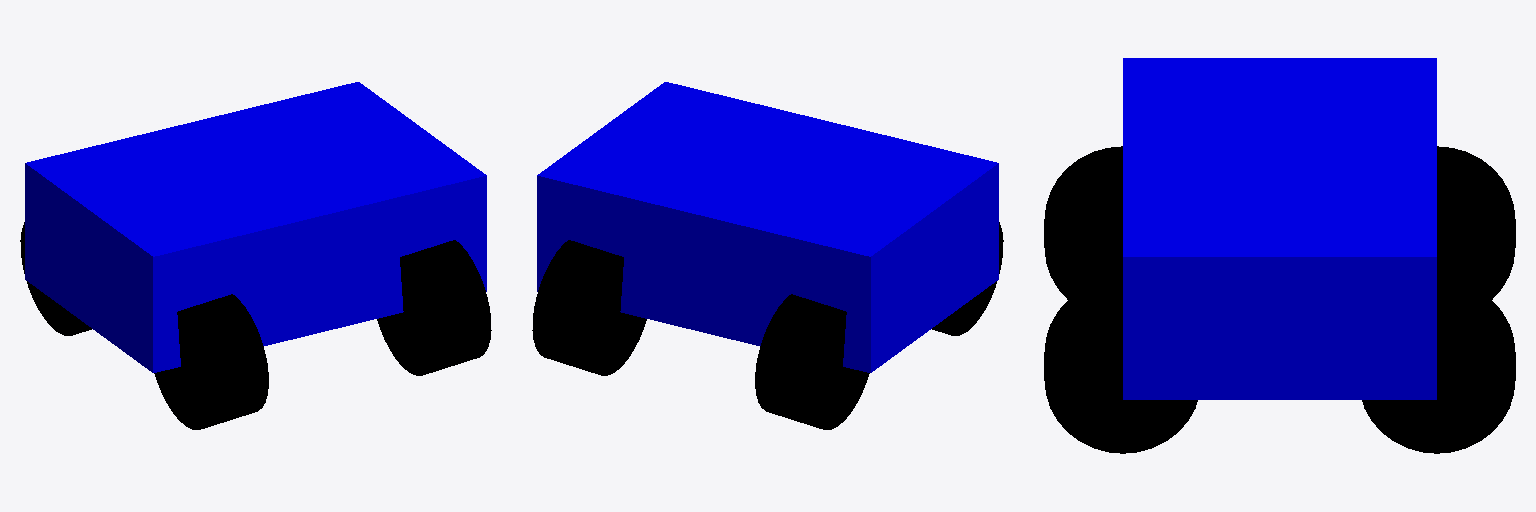
robot.urdf — little_car:
<?xml version="1.0"?>
	<robot name="little_car">
		<link name="base_link">	
			<inertial>
				<origin xyz="0 0 0.05" rpy="0 0 0"/>   
           			<mass value="10"/>                 
            			<inertia ixx="0" ixy="0" ixz="0" iyy="0" iyz="0" izz="0" />  
        		</inertial>

			<visual>
				<geometry>
					<box size="0.3 0.2 0.1"/>
				</geometry>
				<origin xyz="0 0 0.05" rpy="0 0 0"/>
				<material name="blue">
					<color rgba="0 0 1 1"/>
				</material>
			</visual>
			<collision>
				<geometry>
		  		  <box size="0.21 0.3 0.11"/>
				</geometry>
	    		</collision>
		</link>
		
		<link name="wheel_1">	
			<inertial>
				<origin xyz="0 0 0.05" rpy="0 0 0"/>   
           			<mass value="10"/>                 
            			<inertia ixx="0" ixy="0" ixz="0" iyy="0" iyz="0" izz="0" />  
        		</inertial>			
			<visual>
				<geometry>
					<cylinder length="0.05" radius="0.05"/>
				</geometry>
				<origin rpy="0 1.5 0" xyz="0.1 0.1 0"/> 
				<material name="black">
					<color rgba="0 0 0 1"/>
				</material>
			</visual>
	    		<collision>
				<geometry>
		    			<box size="0.21 0.3 0.11"/>
				</geometry>
	    		</collision>
		</link>
		
		<link name="wheel_2">
			<inertial>
				<origin xyz="0 0 0.05" rpy="0 0 0"/>   
           			<mass value="10"/>                 
            			<inertia ixx="0" ixy="0" ixz="0" iyy="0" iyz="0" izz="0" />  
        		</inertial>
	
			<visual>
				<geometry>
					<cylinder length="0.05" radius="0.05"/>
				</geometry>
				<origin rpy="0 1.5 0" xyz="-0.1 0.1 0"/>
				<material name="black">
					<color rgba="0 0 0 1"/>
				</material>
			</visual>
	    		<collision>
				<geometry>
		    			<box size="0.21 0.3 0.11"/>
				</geometry>
	    		</collision>
		</link>
		
		<link name="wheel_3">	
			<inertial>
				<origin xyz="0 0 0.05" rpy="0 0 0"/>   
           			<mass value="10"/>                 
            			<inertia ixx="0" ixy="0" ixz="0" iyy="0" iyz="0" izz="0" />  
        		</inertial>	
			<visual>
				<geometry>
					<cylinder length="0.05" radius="0.05"/>
				</geometry>
				<origin rpy="0 1.5 0" xyz="0.1 -0.1 0"/>
				<material name="black">
					<color rgba="0 0 0 1"/>
				</material>
			</visual>
	    		<collision>
				<geometry>
		    			<box size="0.21 0.3 0.11"/>
				</geometry>
	    		</collision>
		</link>
		
		<link name="wheel_4">
			<inertial>
				<origin xyz="0 0 0.05" rpy="0 0 0"/>   
           			<mass value="10"/>                 
            			<inertia ixx="0" ixy="0" ixz="0" iyy="0" iyz="0" izz="0" />  
        		</inertial>
			<visual>
				<geometry>
					<cylinder length="0.05" radius="0.05"/>
				</geometry>
				<origin rpy="0 1.5 0" xyz="-0.1 -0.1 0"/>
				<material name="black">
					<color rgba="0 0 0 1"/>
				</material>
			</visual>
	    		<collision>
				<geometry>
		    			<box size="0.21 0.3 0.11"/>
				</geometry>
	    		</collision>
		</link>
		<joint name="base_to_wheel1" type="continuous">
			<parent link="base_link"/>
			<child link="wheel_1"/>
			<joint_properties damping="20.0" friction="20.0"/>
		</joint>
		
		<joint name="base_to_wheel2" type="continuous">
			<parent link="base_link"/>
			<child link="wheel_2"/>
			<joint_properties damping="20.0" friction="20.0"/>
		</joint>
		
		<joint name="base_to_wheel3" type="continuous">
			<parent link="base_link"/>
			<child link="wheel_3"/>
			<joint_properties damping="20.0" friction="20.0"/>
		</joint>
		
		<joint name="base_to_wheel4" type="continuous">
			<parent link="base_link"/>
			<child link="wheel_4"/>
			<joint_properties damping="20.0" friction="20.0"/>
		</joint>
	</robot>

--- Render facts (derived) ---
The picture shows the robot from 3 angles, left to right: view 1: azimuth 30°, elevation 25°; view 2: azimuth 150°, elevation 25°; view 3: azimuth 270°, elevation 25°; orthographic projection.
Robot: little_car — 5 links, 4 joints (4 continuous); root link base_link; default pose: all joints at 0.
Visible links, largest first — view 1: base_link, wheel_4, wheel_3, wheel_2; view 2: base_link, wheel_2, wheel_1, wheel_4; view 3: base_link, wheel_1, wheel_3, wheel_2, wheel_4.
Link boxes in pixels (left/top/right/bottom): base_link: left=25, top=82, right=486, bottom=372; wheel_4: left=154, top=294, right=268, bottom=429; wheel_3: left=377, top=240, right=491, bottom=375; wheel_2: left=20, top=222, right=91, bottom=335; base_link: left=537, top=82, right=998, bottom=372; wheel_2: left=755, top=294, right=869, bottom=429; wheel_1: left=532, top=240, right=646, bottom=375; wheel_4: left=932, top=222, right=1003, bottom=335; base_link: left=1123, top=58, right=1436, bottom=399; wheel_1: left=1362, top=279, right=1515, bottom=453; wheel_3: left=1044, top=279, right=1197, bottom=453; wheel_2: left=1437, top=146, right=1515, bottom=299; wheel_4: left=1044, top=146, right=1122, bottom=299.
Size in the robot's own frame: 0.3 by 0.3 by 0.1516 metres.
Geometry: primitives only (box / cylinder / sphere), no mesh files.